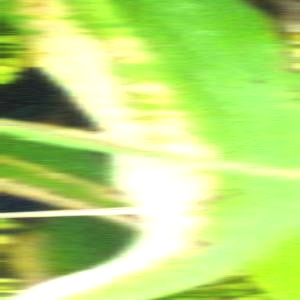Leaf_Blast: (70, 1, 293, 278)
